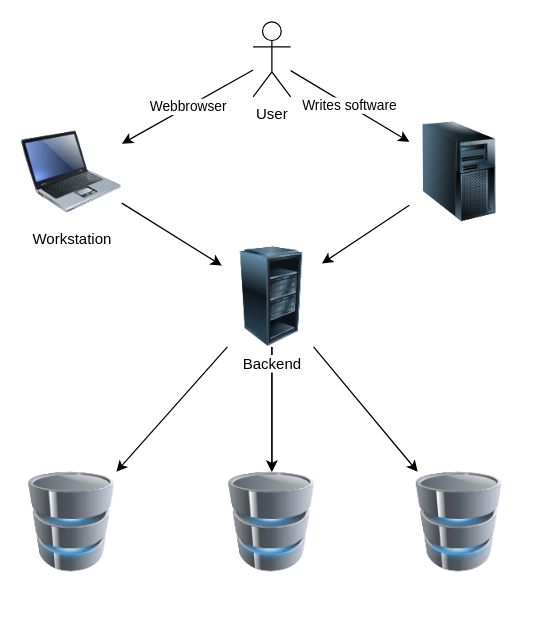
Image size: 545x620. Some labels were removed from this diagram. Each missing label, with the centre of its shape:
"Some other system" belongs at point (459, 171).
"Various databases" belongs at point (271, 521).
